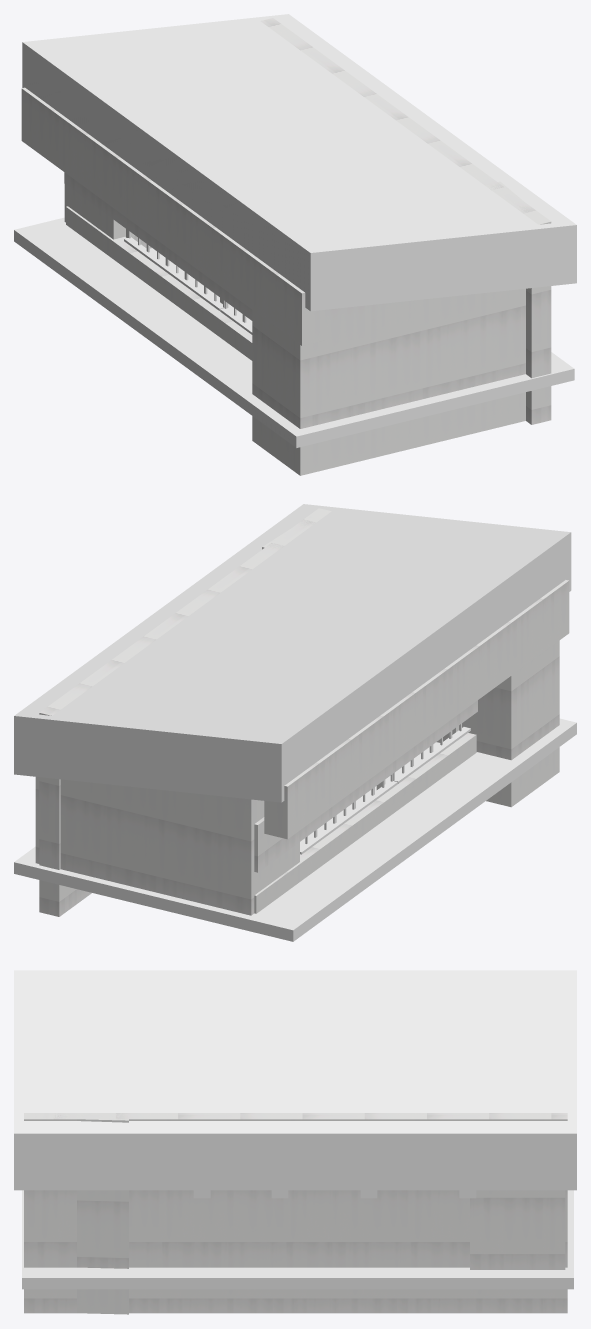
File: CageFight_Building.fbx
The picture shows the model from 3 angles, top to bottom: view 1: azimuth 30°, elevation 25°; view 2: azimuth 150°, elevation 25°; view 3: azimuth 270°, elevation 25°; orthographic projection. The views are drawn at different scales.
Parts seen in each view (by area): view 1: pb_Cube_23920__3_; view 2: pb_Cube_23920__3_; view 3: pb_Cube_23920__3_.
Boxes of the visible parts, <box> form: pb_Cube_23920__3_: <box>14,14,576,475</box>; pb_Cube_23920__3_: <box>14,504,576,941</box>; pb_Cube_23920__3_: <box>14,970,576,1314</box>.
Size of the model in its own units: 25.2 by 20 by 45.25.
Materials: 3 (1 with a texture image).
